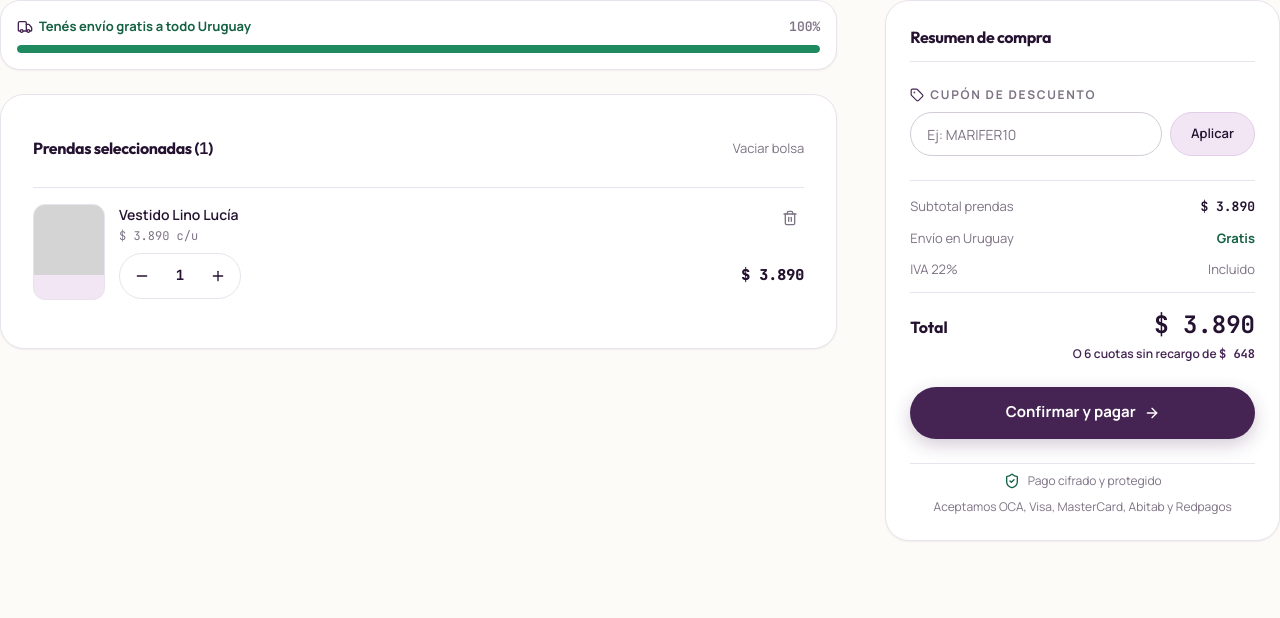
Test case: Tier 2: Boundary & Corner Cases › Discount Calculation Boundary Cases › handles promo code validation with lowercase input and trimmed whitespace
The image size is (1280, 618).
# Apply valid promo code with lowercase and spaces
Type "  marifer10  " into the field labelled "Cupón de descuento" at (1036, 134), box [910,112,1162,156]
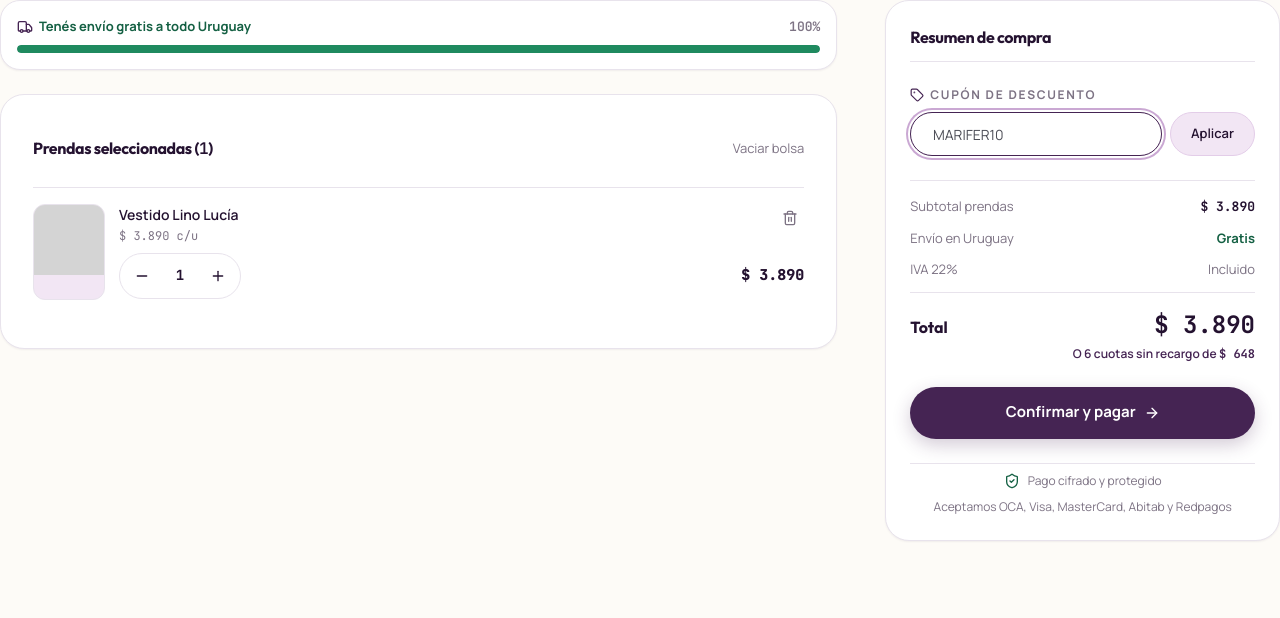
Click the button "Aplicar" at (1212, 134), box [1170,112,1255,156]
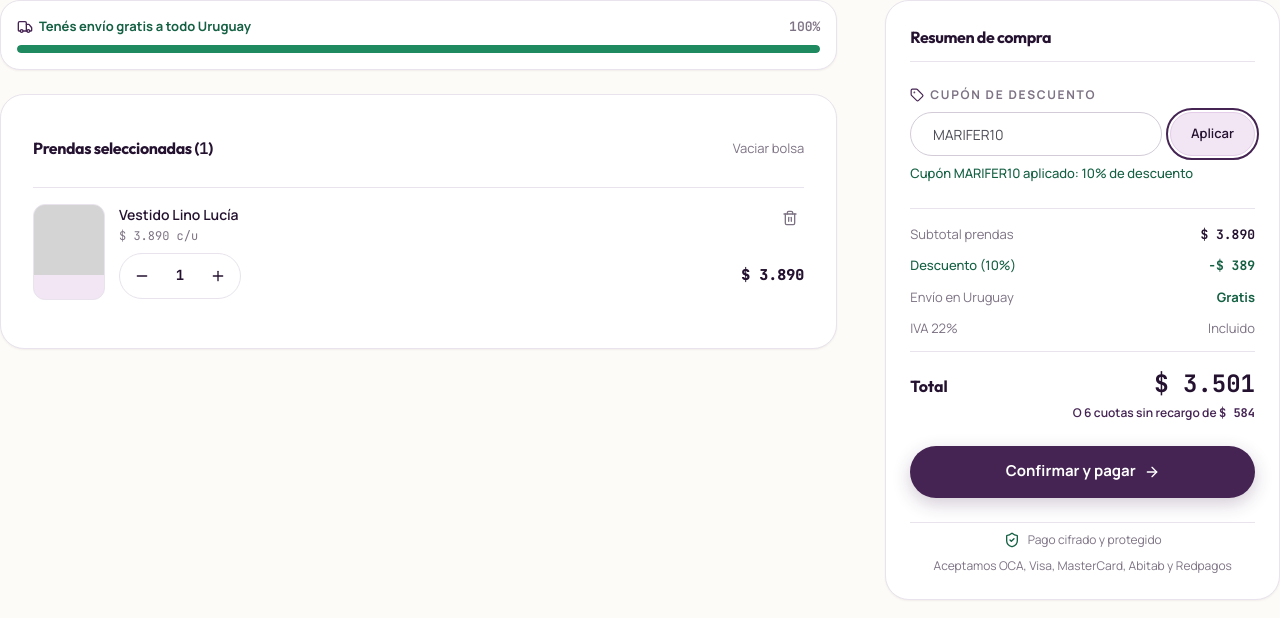
Result: the text "Cupón MARIFER10 aplicado: 10% de descuento" is shown at [910,164,1193,182]
